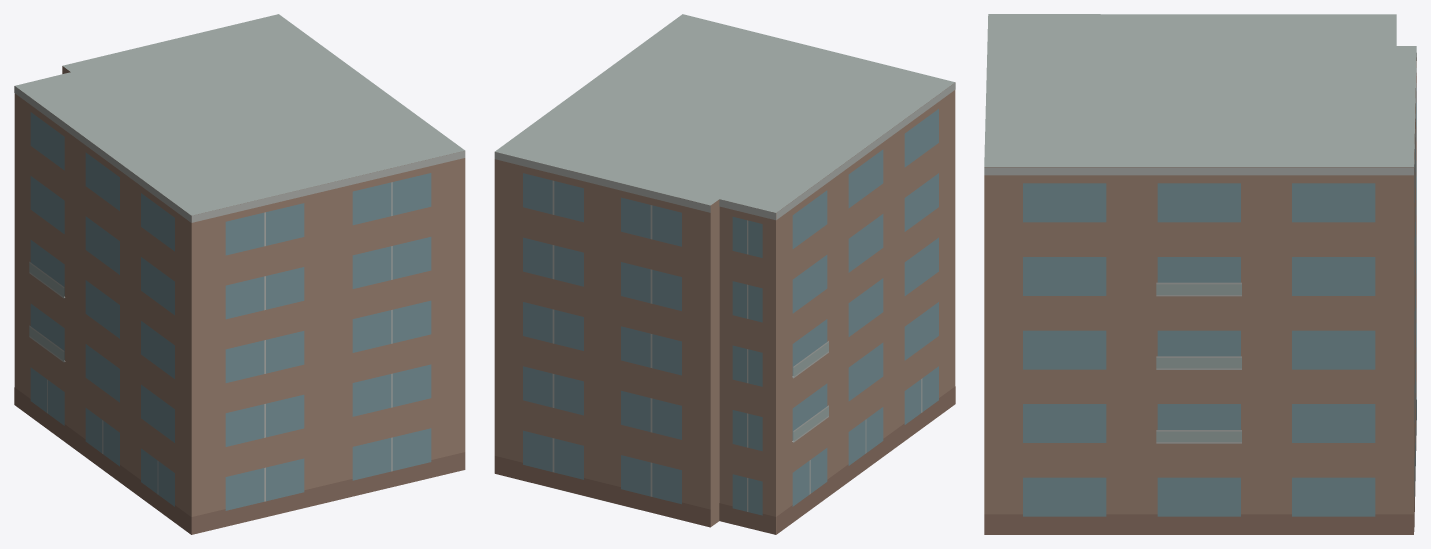
File: survey-upis-32966359.glb
The picture shows the model from 3 angles, left to right: view 1: azimuth 30°, elevation 25°; view 2: azimuth 150°, elevation 25°; view 3: azimuth 270°, elevation 25°; orthographic projection. The views are drawn at different scales.
Parts seen in each view (by area): view 1: survey-upis-32966359.tmp; view 2: survey-upis-32966359.tmp; view 3: survey-upis-32966359.tmp.
Boxes of the visible parts, x1,y1,x2,y2 form: survey-upis-32966359.tmp: [14, 14, 465, 534]; survey-upis-32966359.tmp: [494, 14, 955, 534]; survey-upis-32966359.tmp: [984, 14, 1416, 534].
Bounding box in the file's own units: 9.61 × 10.7 × 11.42.
